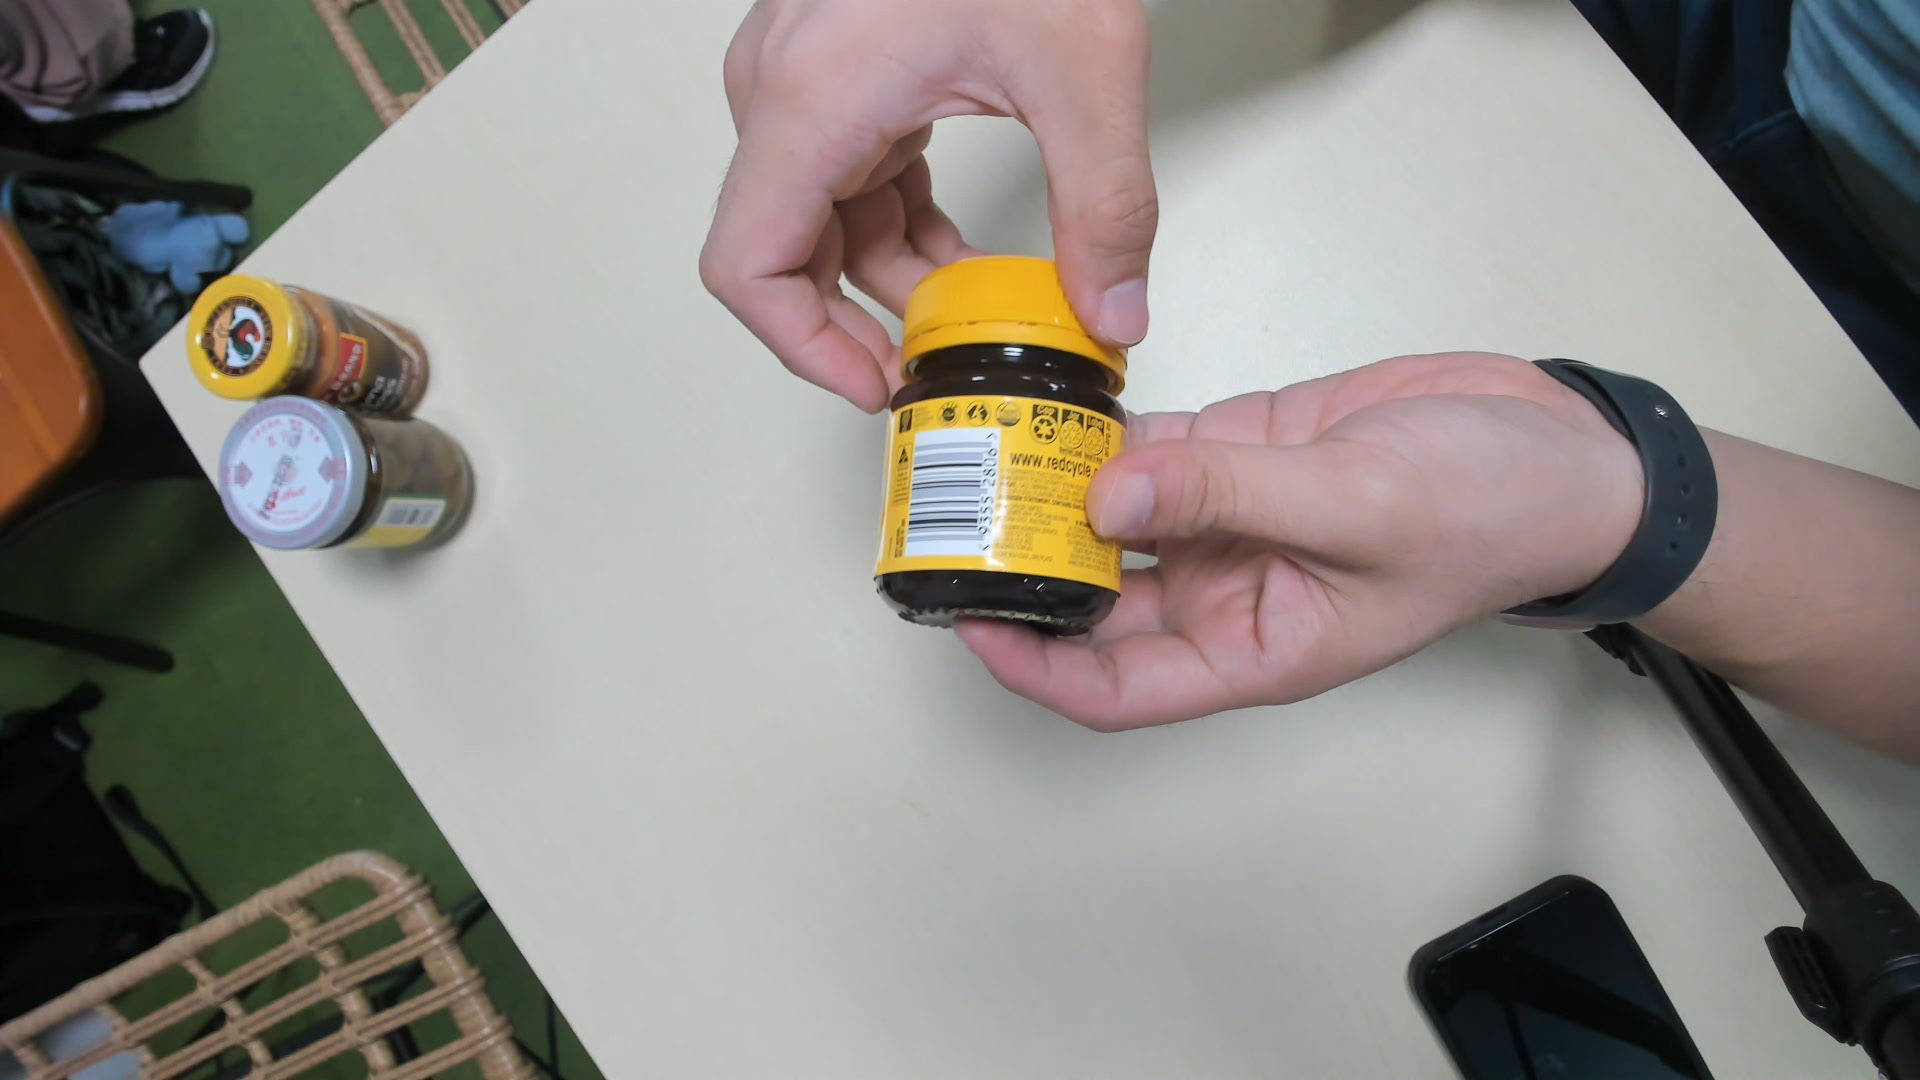OtherSauceDressing_200-299g_Halal_NonHealthy: (881, 253, 1124, 626)
